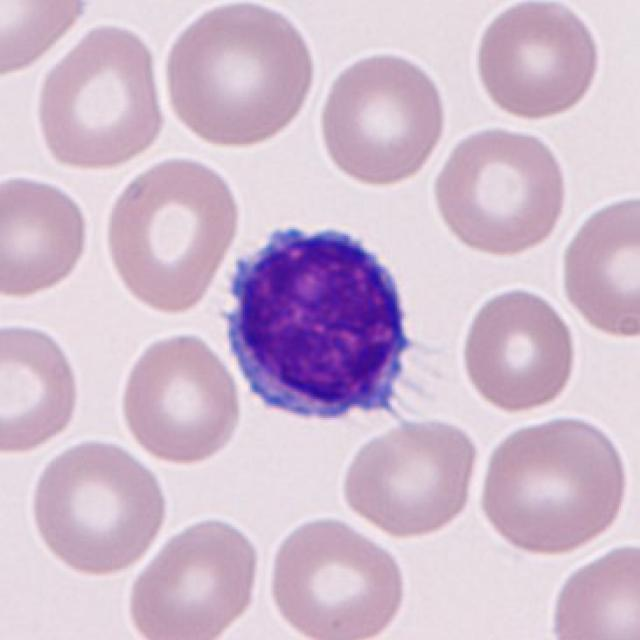Lymphocyte: (210, 212, 439, 435)
RBC: (157, 0, 320, 151), (101, 151, 245, 316), (474, 409, 633, 558), (32, 18, 170, 174), (25, 436, 172, 578), (428, 122, 572, 258), (315, 47, 449, 189), (264, 511, 411, 640), (115, 326, 245, 467), (336, 414, 481, 540), (122, 511, 263, 640), (458, 281, 581, 415), (470, 0, 604, 121), (0, 168, 93, 304), (556, 190, 638, 342), (0, 317, 84, 458), (545, 537, 638, 640), (0, 0, 93, 82)
